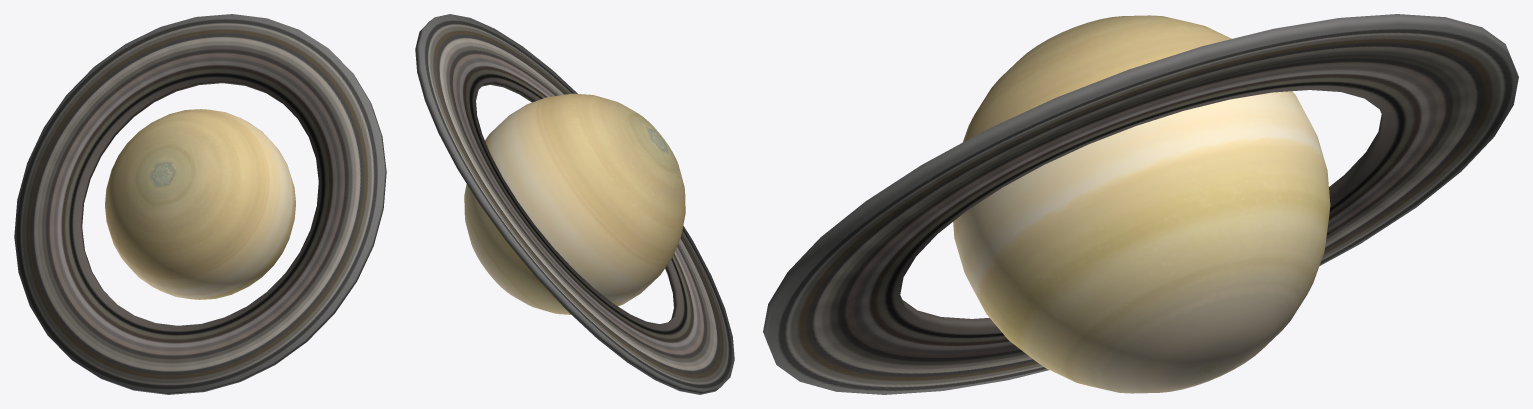
Rendered from saturn.obj.
3 renders of one model, left to right at view 1: azimuth 30°, elevation 25°; view 2: azimuth 150°, elevation 25°; view 3: azimuth 270°, elevation 25°, orthographic. The views are drawn at different scales.
Visible parts, largest first — view 1: Saturn.007; view 2: Saturn.007; view 3: Saturn.007.
Part boxes in pixels (x1=…): Saturn.007: x1=14, y1=14, x2=386, y2=394; Saturn.007: x1=415, y1=14, x2=734, y2=394; Saturn.007: x1=763, y1=14, x2=1518, y2=394.
Bounding box in the file's own units: 1.96 × 1.94 × 2.44.
